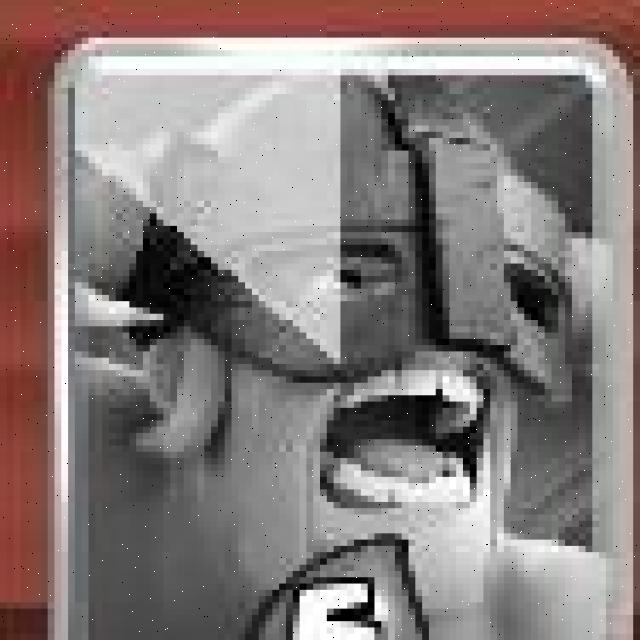Elite_Barbarians: (52, 41, 634, 640)
